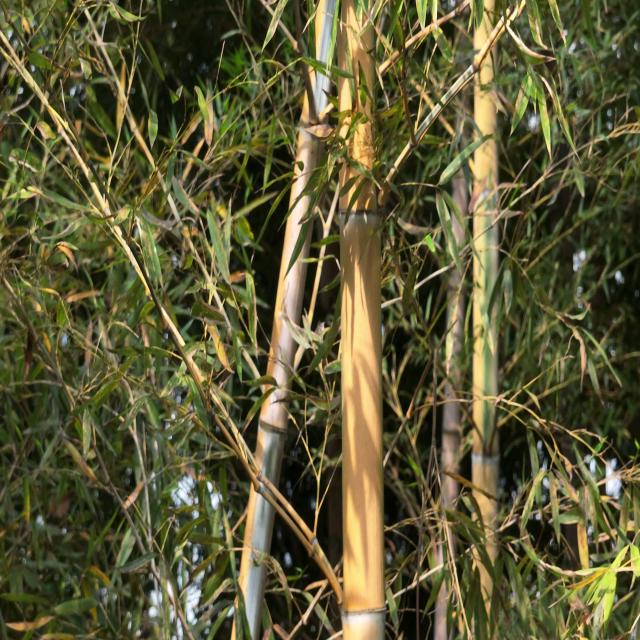Bamboo-shoots: (338, 0, 385, 640)
